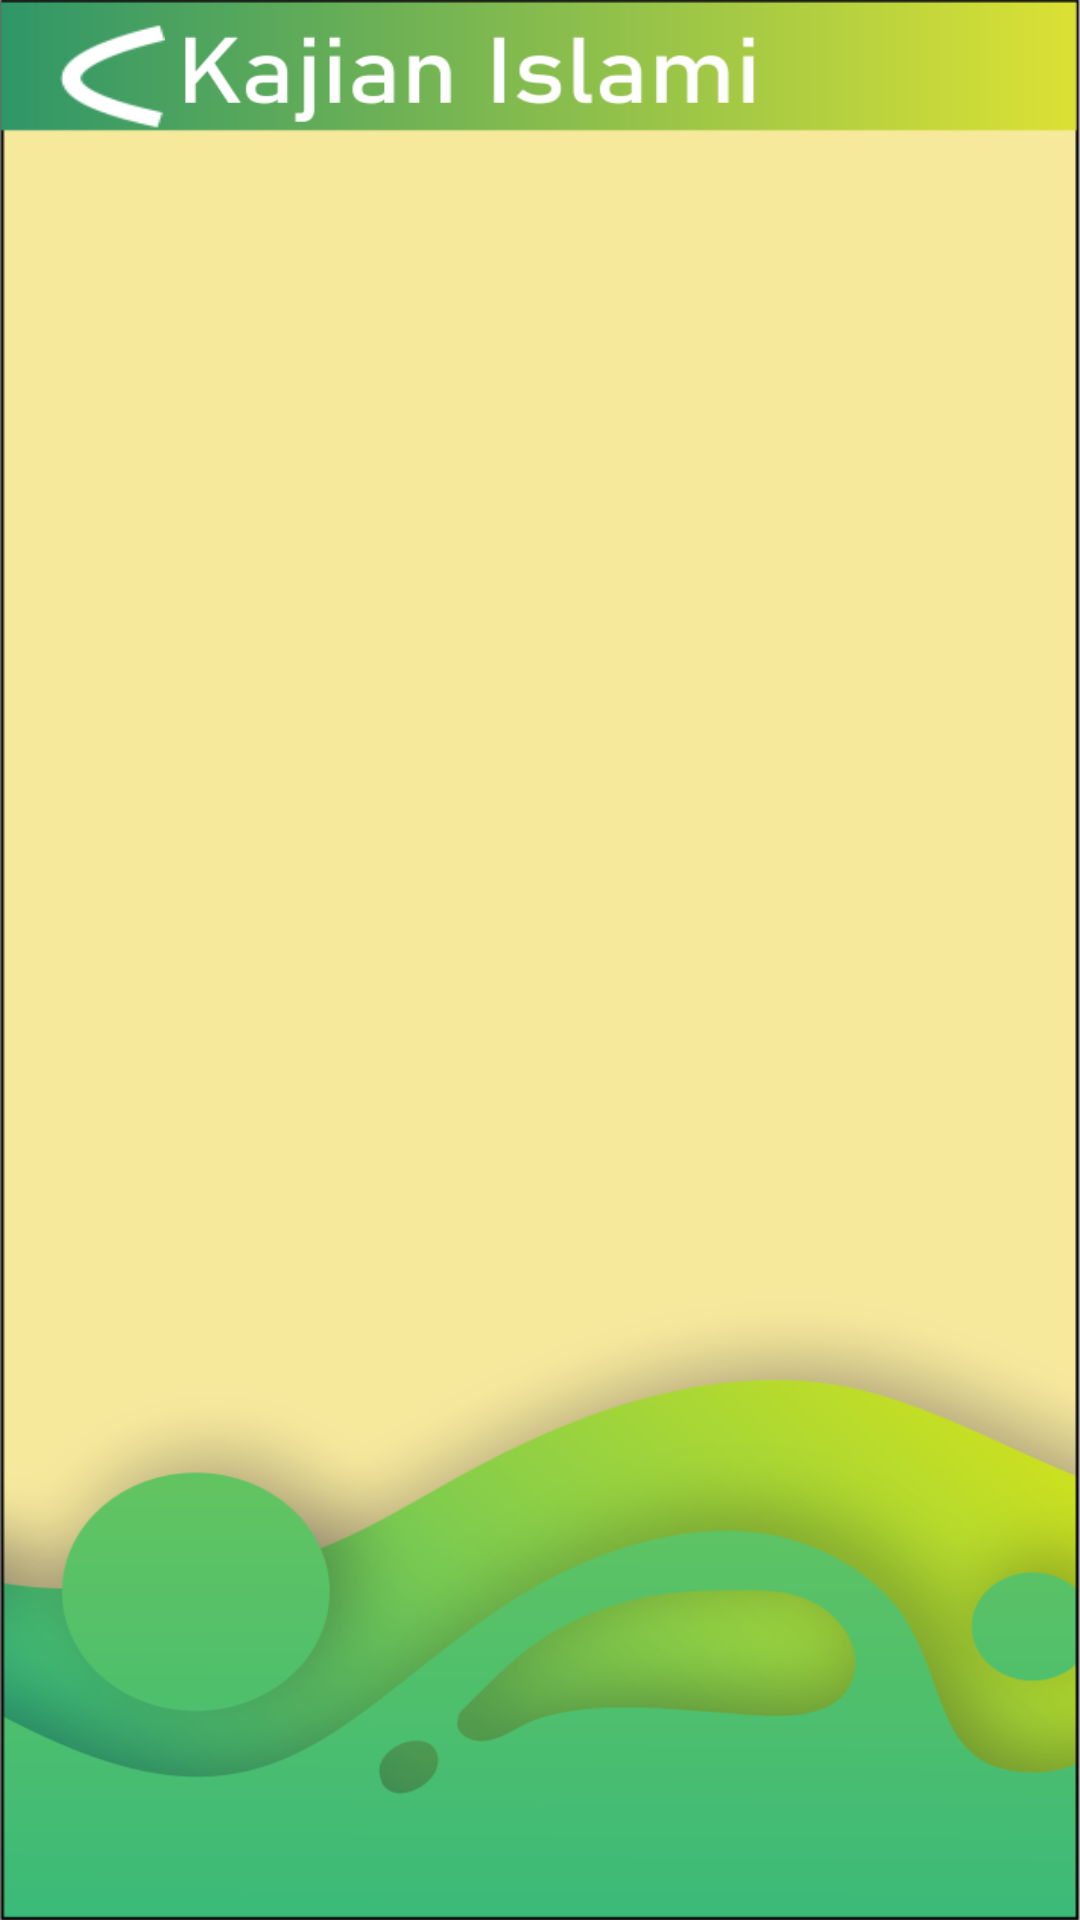

Where to tap for icons on this 1080 × 1920 app screen, as [x,y]:
bback: [112,76]
